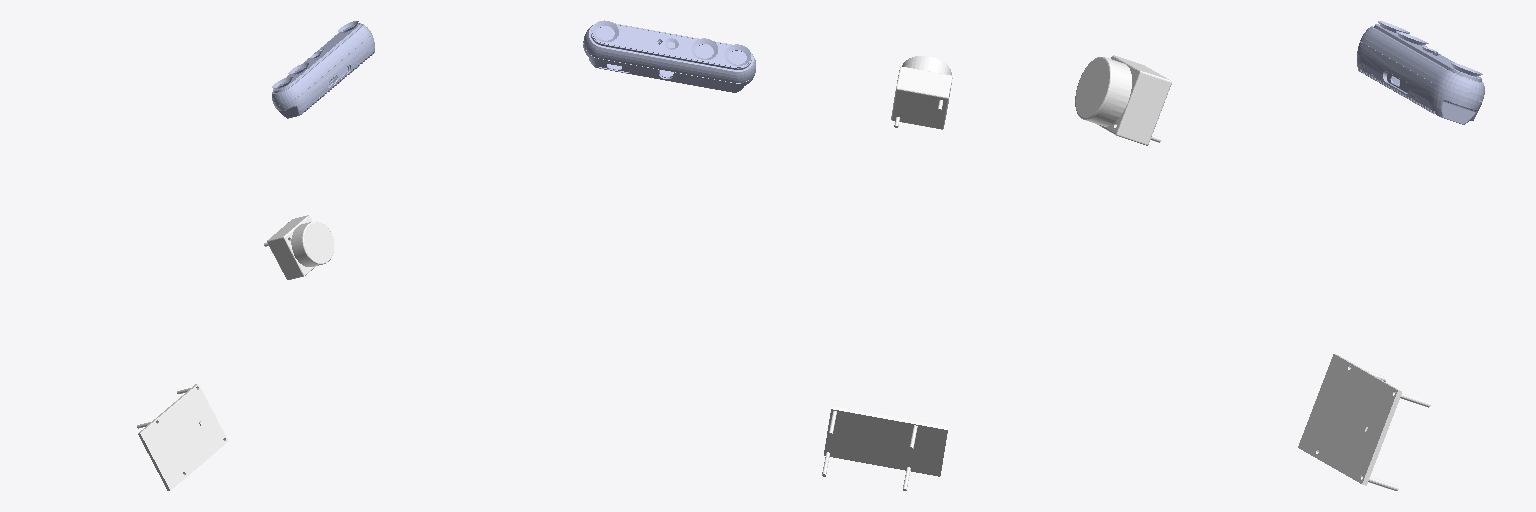
URDF robot description (slam_car_bringup):
<?xml version="1.0" encoding="utf-8"?>
<!-- This URDF was automatically created by SolidWorks to URDF Exporter! Originally created by Stephen Brawner (brawner@gmail.com) 
     Commit Version: 1.6.0-4-g7f85cfe  Build Version: 1.6.7995.38578
     For more information, please see http://wiki.ros.org/sw_urdf_exporter -->
<robot
  name="slam_car_bringup">
  <link
    name="basefoot_link">
    <inertial>
      <origin
        xyz="-0.00579052371044658 0.00323447469386351 0.112122204194137"
        rpy="0 0 0" />
      <mass
        value="1.61216731861996" />
      <inertia
        ixx="0.00185808195389787"
        ixy="2.61681630587095E-05"
        ixz="-8.94109747405806E-07"
        iyy="0.00558929725123506"
        iyz="-1.14485387935182E-05"
        izz="0.00671451642708066" />
    </inertial>
    <visual>
      <origin
        xyz="0 0 0"
        rpy="0 0 0" />
      <geometry>
        <mesh
          filename="package://slam_car_bringup/meshes/basefoot_link.STL" />
      </geometry>
      <material
        name="">
        <color
          rgba="0.792156862745098 0.819607843137255 0.933333333333333 1" />
      </material>
    </visual>
    <collision>
      <origin
        xyz="0 0 0"
        rpy="0 0 0" />
      <geometry>
        <mesh
          filename="package://slam_car_bringup/meshes/basefoot_link.STL" />
      </geometry>
    </collision>
  </link>
  <link
    name="base_link">
    <inertial>
      <origin
        xyz="1.69234931624573E-05 0.000150295862446748 0.00104806628647489"
        rpy="0 0 0" />
      <mass
        value="0.014349663675999" />
      <inertia
        ixx="8.10429718157749E-06"
        ixy="-4.30532137585767E-10"
        ixz="-5.59623224835799E-14"
        iyy="3.47243299668213E-06"
        iyz="4.23831470773739E-10"
        izz="1.15182948479294E-05" />
    </inertial>
    <visual>
      <origin
        xyz="0 0 0"
        rpy="0 0 0" />
      <geometry>
        <mesh
          filename="package://slam_car_bringup/meshes/base_link.STL" />
      </geometry>
      <material
        name="">
        <color
          rgba="1 1 1 1" />
      </material>
    </visual>
    <collision>
      <origin
        xyz="0 0 0"
        rpy="0 0 0" />
      <geometry>
        <mesh
          filename="package://slam_car_bringup/meshes/base_link.STL" />
      </geometry>
    </collision>
  </link>
  <joint
    name="base_joint"
    type="fixed">
    <origin
      xyz="0.0195795224024497 4.35599634547312E-05 0.0870000000000001"
      rpy="0 0 0" />
    <parent
      link="basefoot_link" />
    <child
      link="base_link" />
    <axis
      xyz="0 0 0" />
  </joint>
  <link
    name="laser_link">
    <inertial>
      <origin
        xyz="5.55111512312578E-17 1.11022302462516E-16 -0.0049188742681131"
        rpy="0 0 0" />
      <mass
        value="0.0442845851177659" />
      <inertia
        ixx="8.99677852978465E-06"
        ixy="5.93761011528483E-08"
        ixz="-2.32934060494933E-21"
        iyy="8.99677852978465E-06"
        iyz="-3.81164826264435E-21"
        izz="9.43736558886082E-06" />
    </inertial>
    <visual>
      <origin
        xyz="0 0 0"
        rpy="0 0 0" />
      <geometry>
        <mesh
          filename="package://slam_car_bringup/meshes/laser_link.STL" />
      </geometry>
      <material
        name="">
        <color
          rgba="1 1 1 1" />
      </material>
    </visual>
    <collision>
      <origin
        xyz="0 0 0"
        rpy="0 0 0" />
      <geometry>
        <mesh
          filename="package://slam_car_bringup/meshes/laser_link.STL" />
      </geometry>
    </collision>
  </link>
  <joint
    name="laser_joint"
    type="fixed">
    <origin
      xyz="-0.00635280270601718 -4.35599634609485E-05 0.152499999999998"
      rpy="0 0 0" />
    <parent
      link="base_link" />
    <child
      link="laser_link" />
    <axis
      xyz="0 0 0" />
  </joint>
  <link
    name="camera_link">
    <inertial>
      <origin
        xyz="-0.00589801592102646 -0.0471438797599946 -0.000188745986513555"
        rpy="0 0 0" />
      <mass
        value="0.0474558251402965" />
      <inertia
        ixx="5.97584913400182E-05"
        ixy="2.48092601181919E-07"
        ixz="-1.08417199247081E-07"
        iyy="5.81836617594421E-06"
        iyz="1.06580820146363E-07"
        izz="5.92765922995712E-05" />
    </inertial>
    <visual>
      <origin
        xyz="0 0 0"
        rpy="0 0 0" />
      <geometry>
        <mesh
          filename="package://slam_car_bringup/meshes/camera_link.STL" />
      </geometry>
      <material
        name="">
        <color
          rgba="0.792156862745098 0.819607843137255 0.933333333333333 1" />
      </material>
    </visual>
    <collision>
      <origin
        xyz="0 0 0"
        rpy="0 0 0" />
      <geometry>
        <mesh
          filename="package://slam_car_bringup/meshes/camera_link.STL" />
      </geometry>
    </collision>
  </link>
  <joint
    name="camera_joint"
    type="fixed">
    <origin
      xyz="0.183187195246871 0.0474564400365425 0.0872526502242746"
      rpy="0 0 0" />
    <parent
      link="base_link" />
    <child
      link="camera_link" />
    <axis
      xyz="0 0 0" />
  </joint>
</robot>

--- What the picture shows (computed from the rendered views, not written in the file) ---
Views: 3 orthographic renders of the robot side by side, from view 1: azimuth 30°, elevation 25°; view 2: azimuth 150°, elevation 25°; view 3: azimuth 270°, elevation 25°.
Robot: slam_car_bringup — 4 links, 3 joints (3 fixed); root link basefoot_link; default pose: all joints at 0.
Links seen in each view (by area): view 1: base_link, camera_link, laser_link; view 2: camera_link, base_link, laser_link; view 3: base_link, camera_link, laser_link.
Link boxes in pixels (<box>): base_link: <box>137,384,228,490</box>; camera_link: <box>272,21,374,118</box>; laser_link: <box>264,215,333,279</box>; camera_link: <box>583,20,755,92</box>; base_link: <box>822,406,948,490</box>; laser_link: <box>891,56,952,129</box>; base_link: <box>1298,354,1430,490</box>; camera_link: <box>1357,21,1484,124</box>; laser_link: <box>1075,55,1171,145</box>.
Bounding box of the posed robot: 0.2585 × 0.2229 × 0.3403 m (x, y, z).
3 mesh visuals loaded from 4 distinct referenced files (3 binary STL); not drawn: 1 (reference not matched to a file when rendering).
